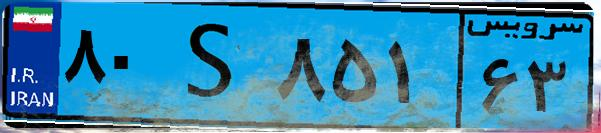0: (110, 28, 158, 98)
1: (385, 28, 445, 110)
3: (525, 38, 570, 115)
5: (330, 28, 385, 110)
6: (475, 38, 525, 113)
8: (270, 28, 330, 110), (57, 26, 110, 100)
S: (158, 12, 270, 120)
